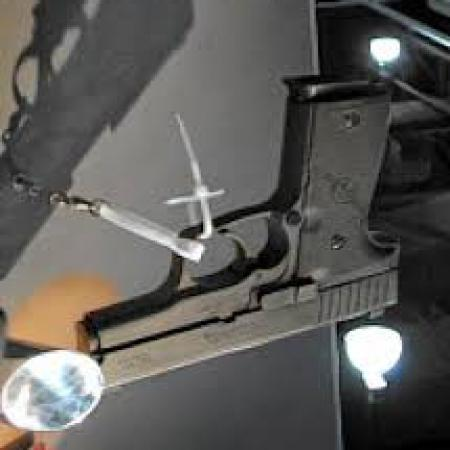Pistol: (62, 84, 398, 409)
